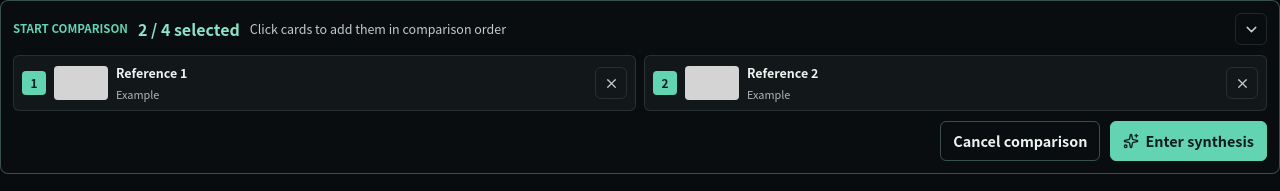
Test: ComparisonDock › removes an item and collapses without clearing the selection
The image size is (1280, 191).
Click the button named "Remove from comparison: Reference 1": {"x": 611, "y": 83} [595,67,627,99]
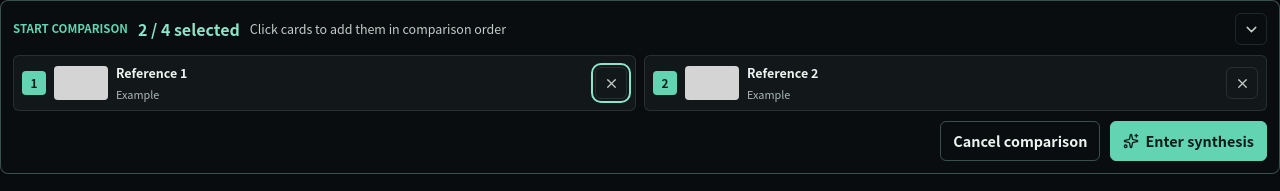
Click the button named "Collapse comparison dock": {"x": 1251, "y": 29} [1235,13,1267,45]
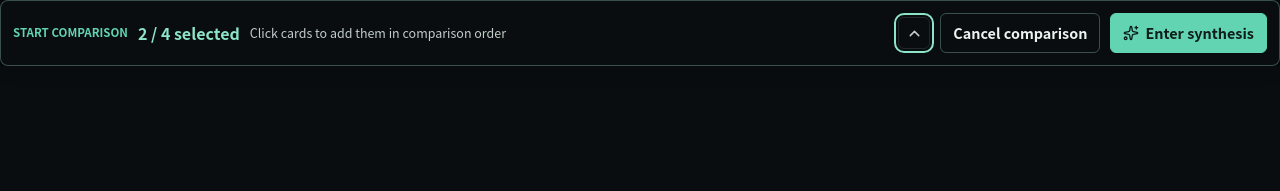
Now the text "Reference 1" is gone
